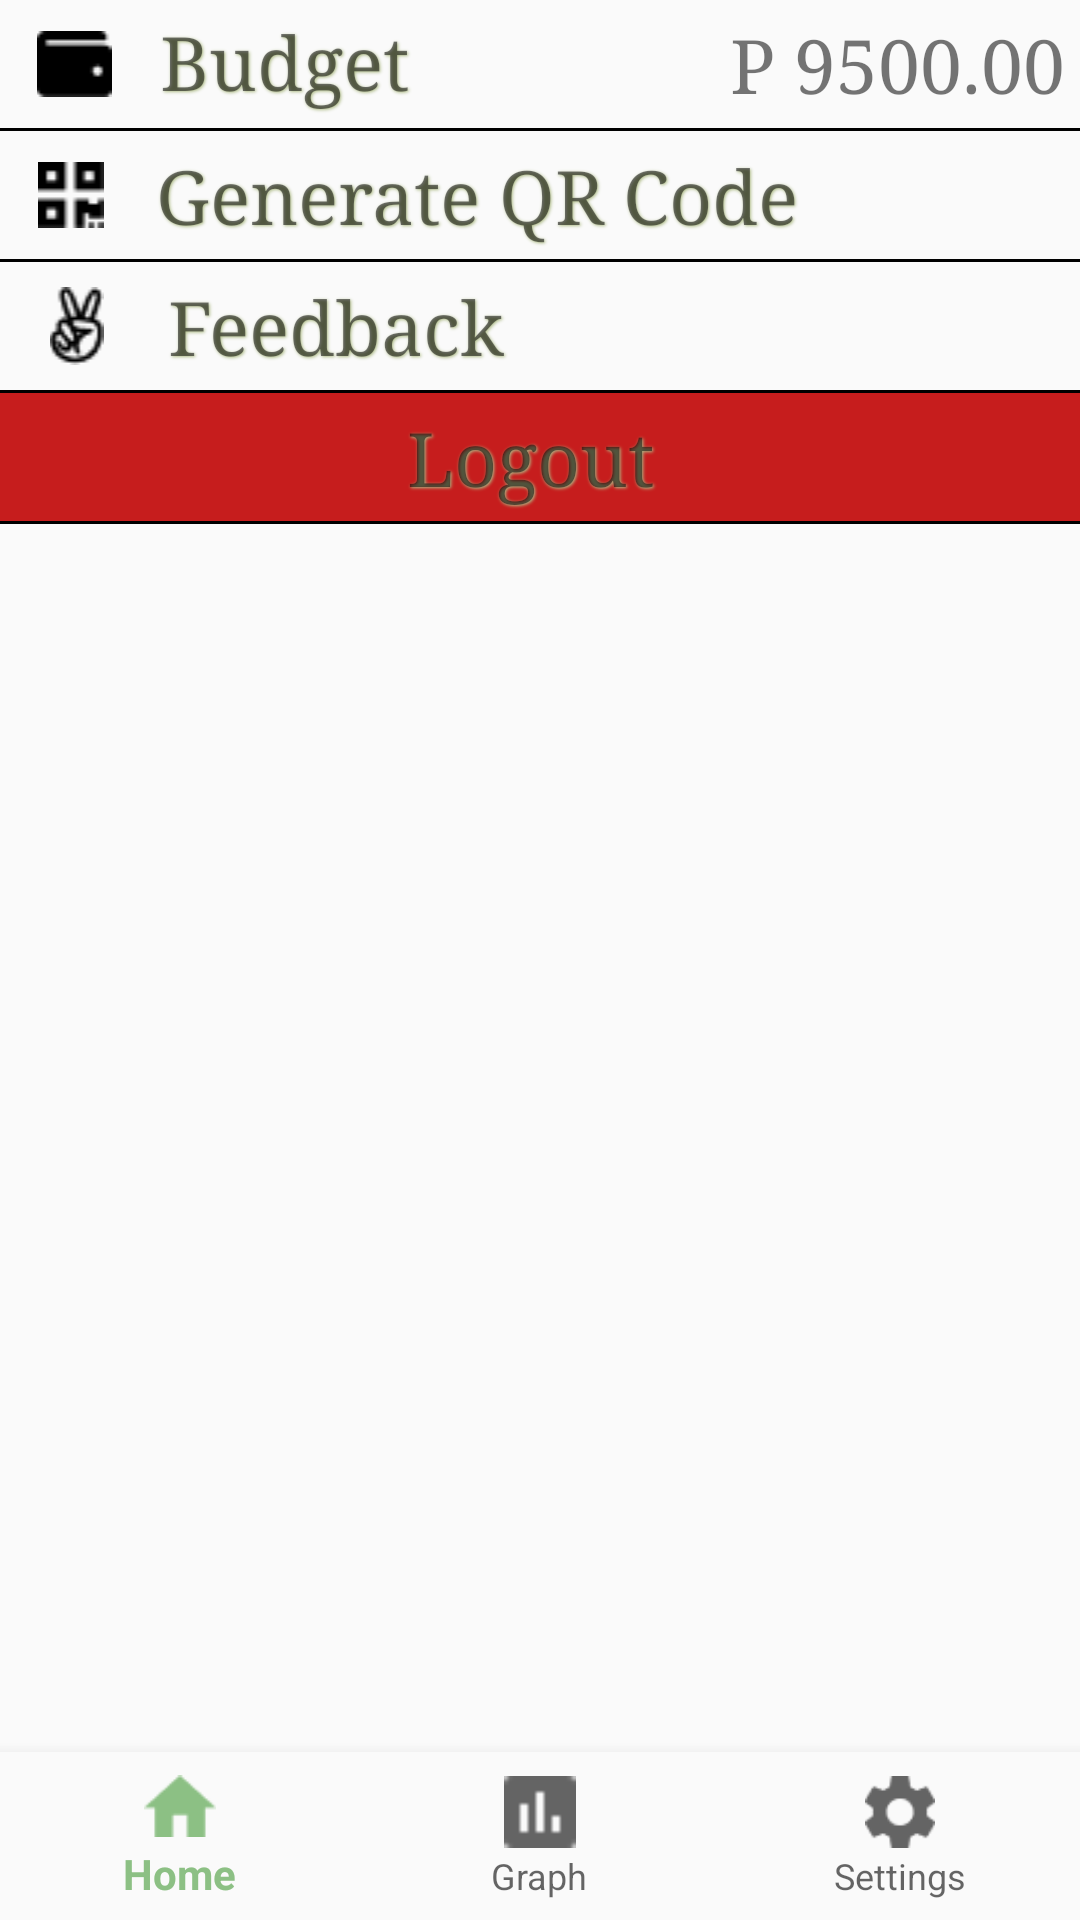

Where to tap for icons on this 1080×1920 app screen, as (x=x, y=y):
qrblack: (x=71, y=195)
wallet: (x=74, y=64)
